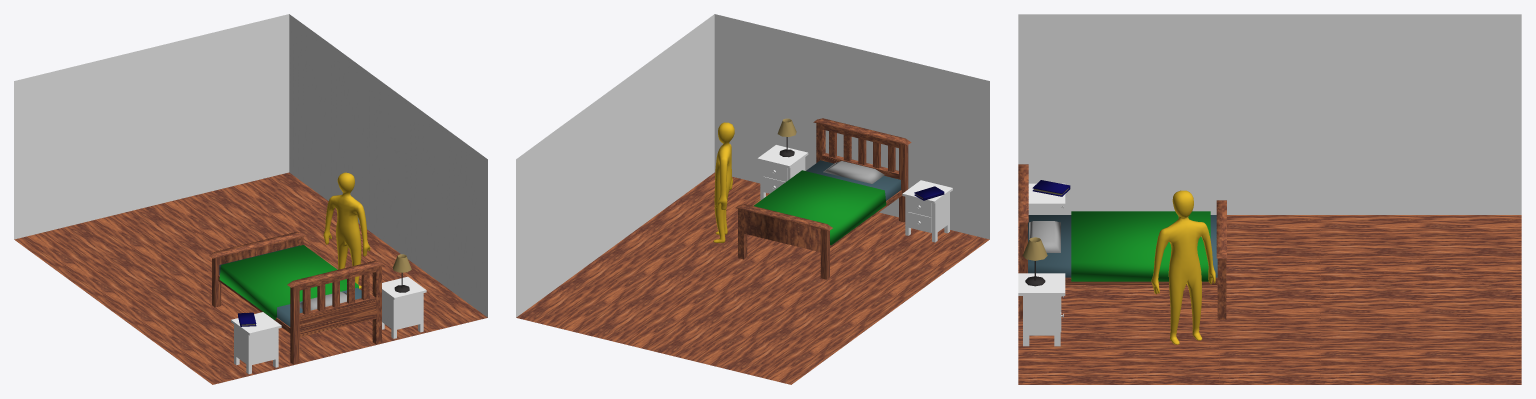
The model's file is bedroom.glb.
The picture shows the model from 3 angles, left to right: view 1: azimuth 30°, elevation 25°; view 2: azimuth 150°, elevation 25°; view 3: azimuth 270°, elevation 25°; orthographic projection. The views are drawn at different scales.
Parts seen in each view (by area): view 1: Bedroom, Bed, Human, Bedside_Table.001, Bedside_Table, Lamp; view 2: Bedroom, Bed, Bedside_Table.001, Human, Bedside_Table; view 3: Bedroom, Bed, Human, Bedside_Table, Bedside_Table.001, Lamp, Book.
Part boxes in pixels (x1=…): Bedroom: x1=14, y1=14, x2=487, y2=384; Bed: x1=209, y1=231, x2=384, y2=364; Human: x1=323, y1=172, x2=370, y2=288; Bedside_Table.001: x1=231, y1=312, x2=281, y2=374; Bedside_Table: x1=382, y1=276, x2=426, y2=338; Lamp: x1=392, y1=254, x2=411, y2=292; Bedroom: x1=516, y1=14, x2=989, y2=384; Bed: x1=735, y1=118, x2=911, y2=279; Bedside_Table.001: x1=902, y1=180, x2=952, y2=242; Human: x1=713, y1=122, x2=734, y2=242; Bedside_Table: x1=757, y1=145, x2=808, y2=199; Bedroom: x1=1018, y1=14, x2=1521, y2=384; Bed: x1=1018, y1=164, x2=1226, y2=319; Human: x1=1151, y1=190, x2=1215, y2=344; Bedside_Table: x1=1018, y1=273, x2=1065, y2=346; Bedside_Table.001: x1=1028, y1=183, x2=1065, y2=214; Lamp: x1=1022, y1=237, x2=1047, y2=286; Book: x1=1032, y1=180, x2=1070, y2=196.
Size of the model in its own units: 4 by 2.2 by 5.
Materials: 12 (1 with a texture image).
